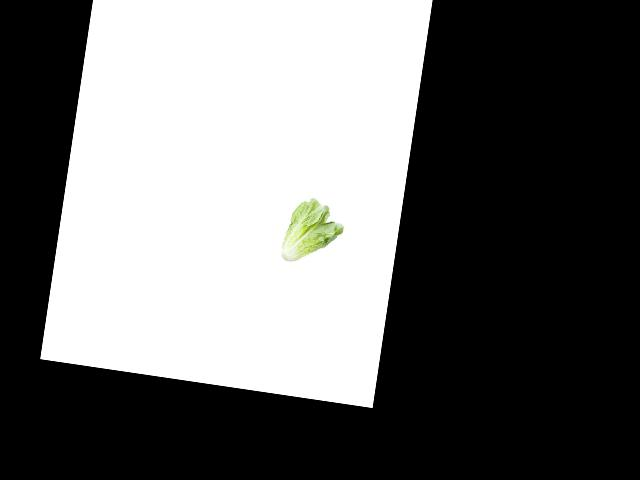lettuce: (274, 194, 349, 272)
